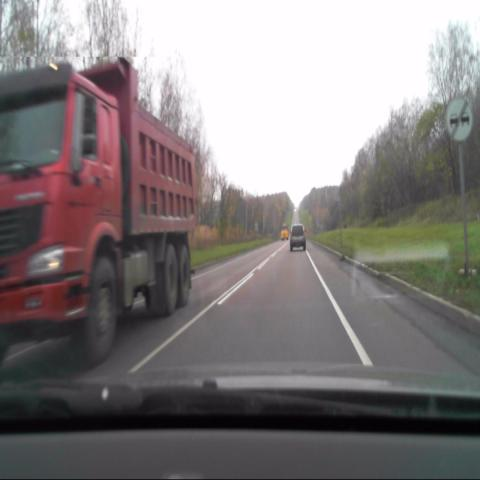3_21: (445, 98, 473, 142)
